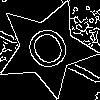O: (21, 23, 79, 82)
